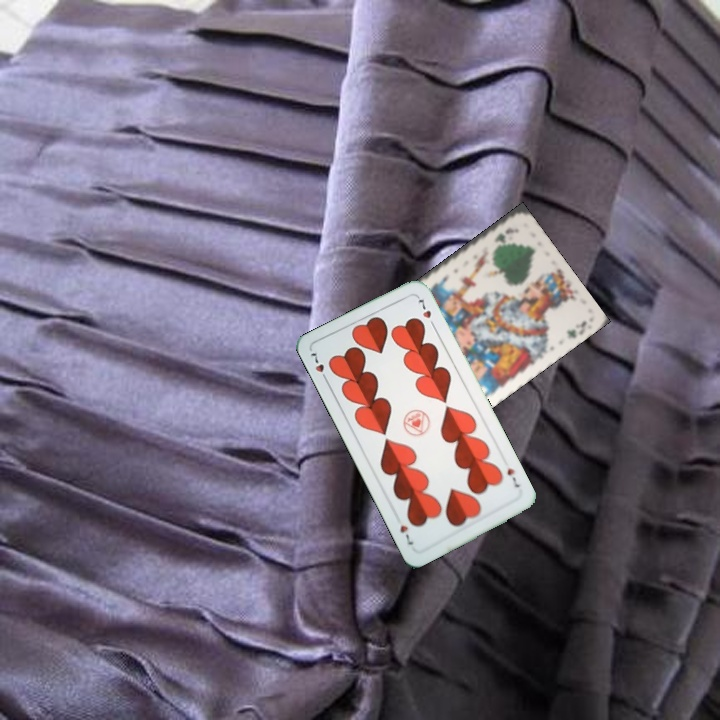GK: (490, 226, 516, 245)
H7: (306, 349, 331, 385), (503, 464, 522, 490)
